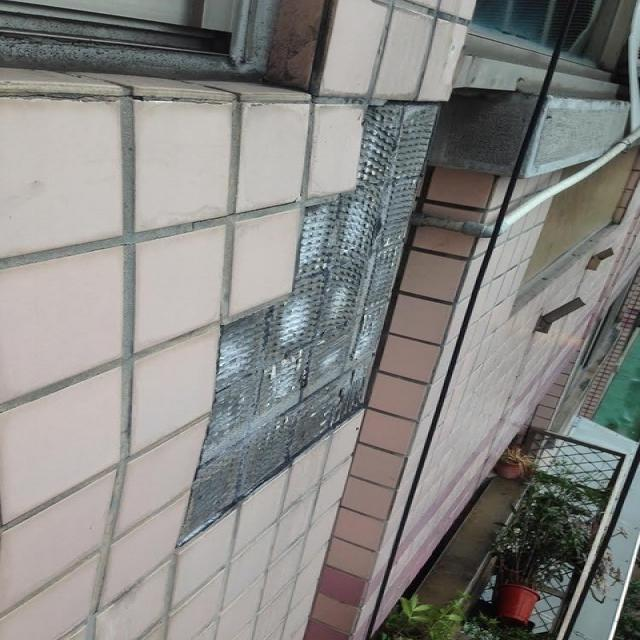tile: (178, 105, 440, 551)
